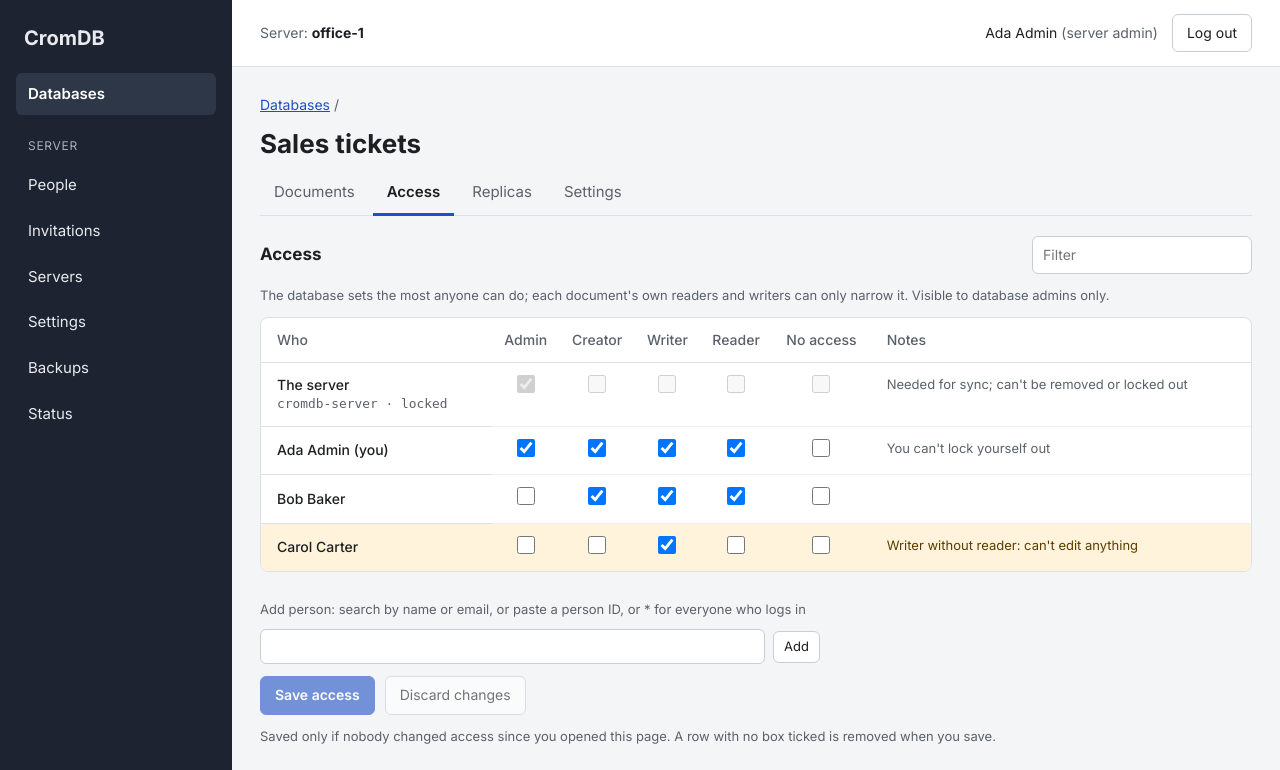
the Access tab › keeps the changes on screen when someone else saved first, until Reload
Click the checkbox named "Creator: Carol Carter".
click(597, 544)  # box [588,536,606,554]
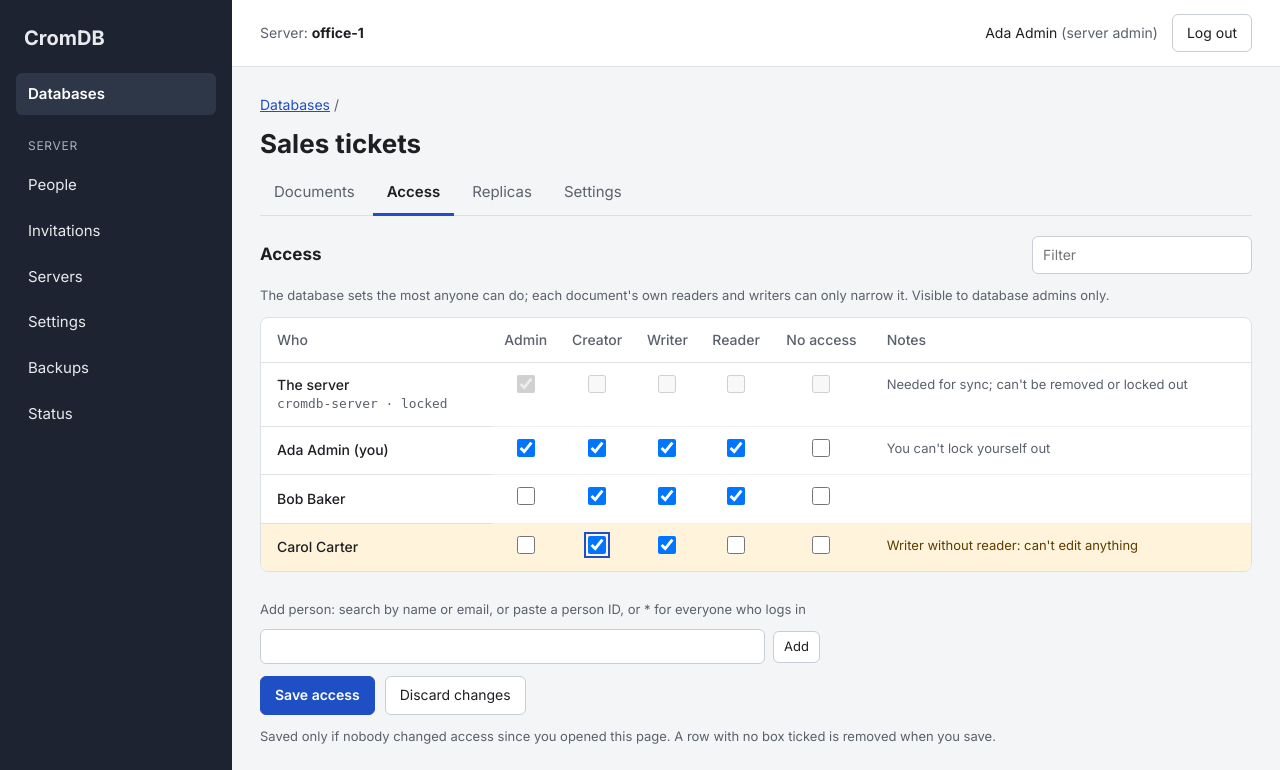
Click the button "Save access".
click(317, 696)  # box [260,676,375,715]
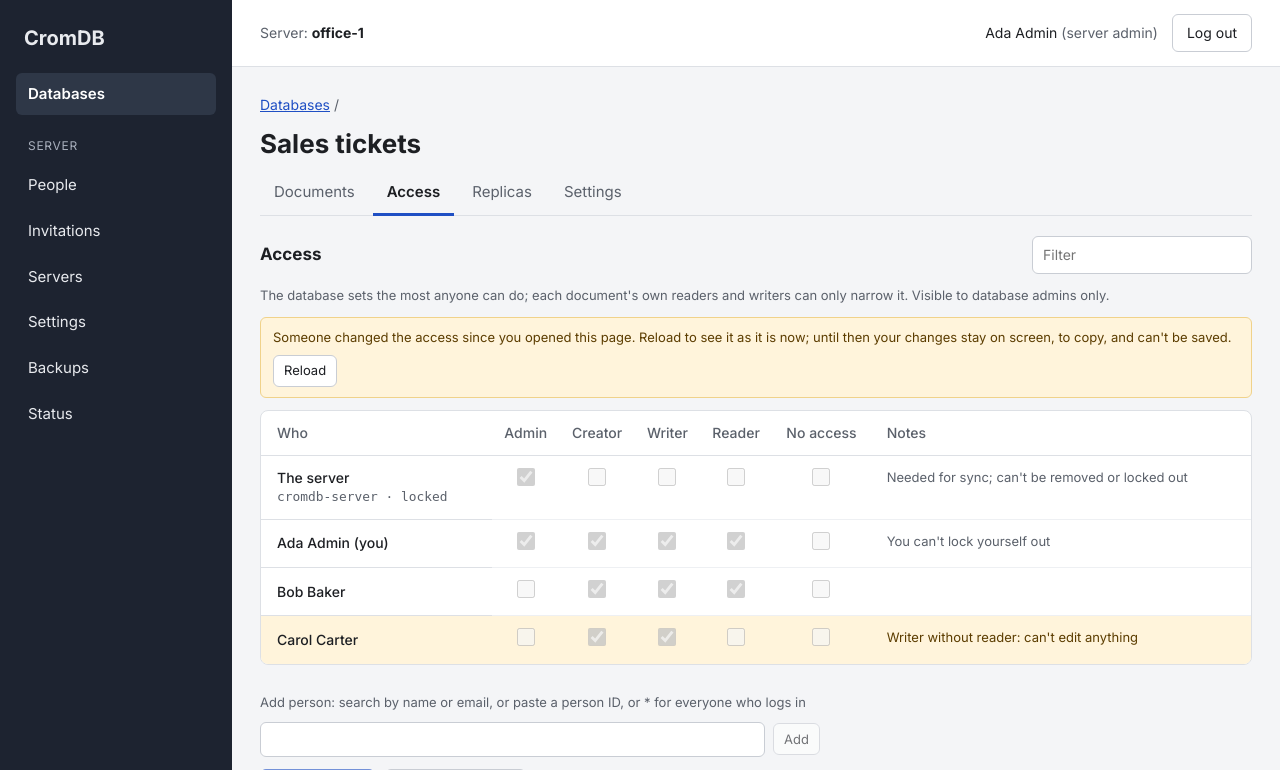
Check: the checkbox named "Creator: Carol Carter" is checked, box [588,628,606,646]
Check: the text "Someone changed the access" is shown, box [273,329,1232,345]
Check: the checkbox named "Creator: Carol Carter" is disabled, box [588,628,606,646]
Click the button "Reload".
click(305, 370)  # box [273,354,337,386]
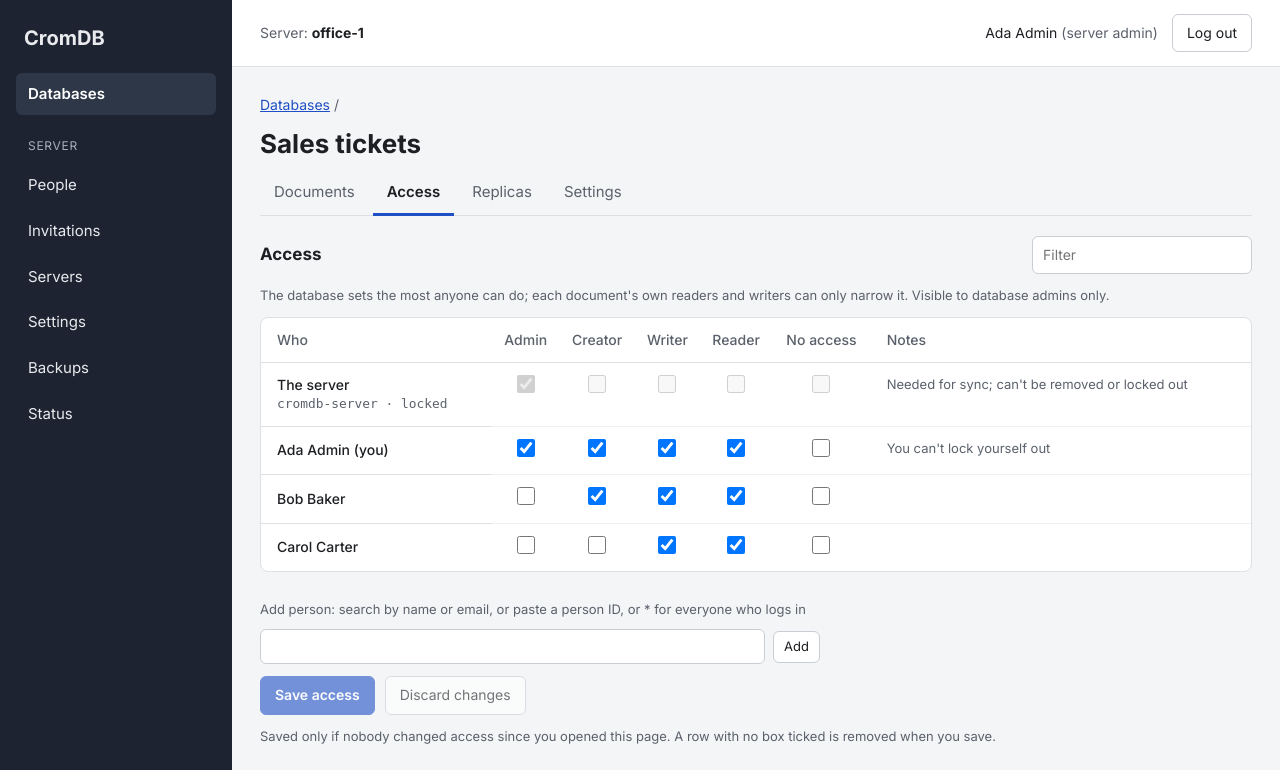
Check: the checkbox named "Creator: Carol Carter" is not checked, box [588,536,606,554]
Check: the checkbox named "Reader: Carol Carter" is checked, box [727,536,745,554]
Check: the text "Someone changed the access" is gone
